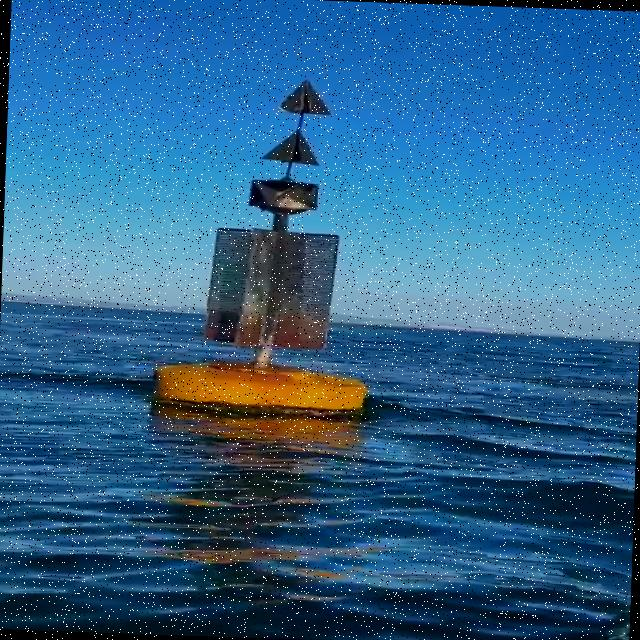marque: (147, 69, 384, 425)
